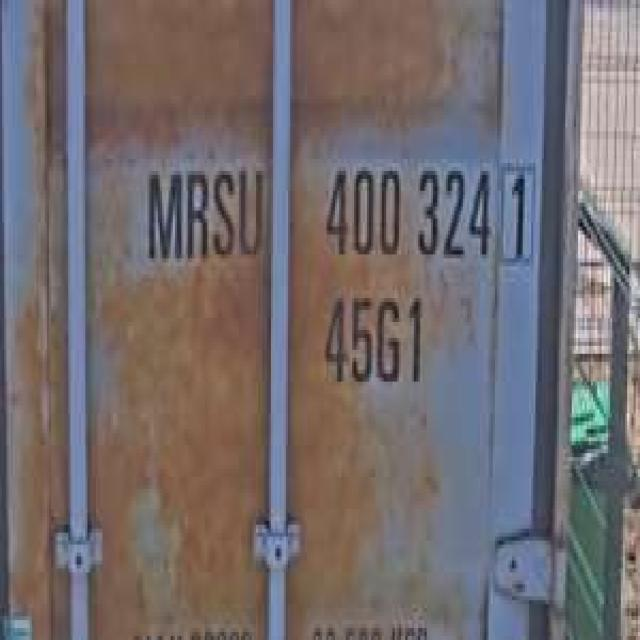dv: (499, 155, 534, 262)
owner: (140, 151, 266, 270)
serial: (318, 147, 493, 270)
size: (318, 278, 429, 394)
